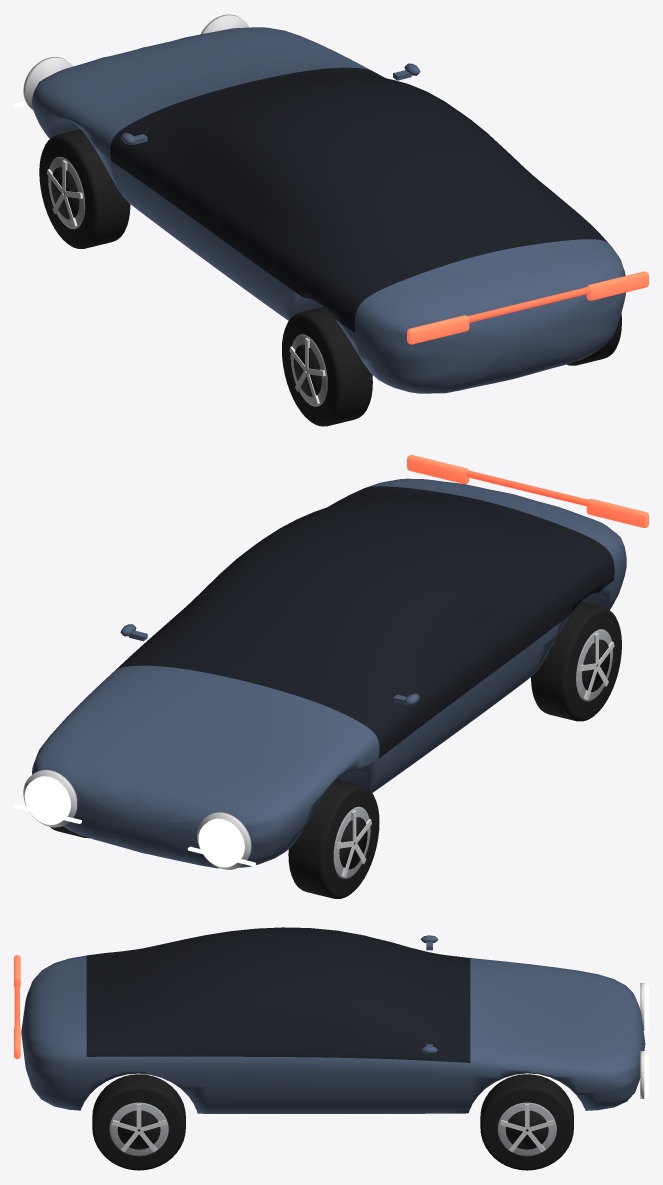
Rendered from auto.glb.
3 renders of one model, top to bottom at view 1: azimuth 30°, elevation 25°; view 2: azimuth 150°, elevation 25°; view 3: azimuth 270°, elevation 25°, orthographic. The views are drawn at different scales.
Parts seen in each view (by area): view 1: Karosserie, Reifen.002, Reifen, RlBlock_L, RlBlock_R, Lichtband, Chromring_L, Felge, Felge.002, Nabe, Nabe.002, Reifen.003; view 2: Karosserie, Reifen, Reifen.002, Linse_L, Linse_R, RlBlock_L, RlBlock_R, Lichtband, Felge, Felge.002, Nabe, Nabe.002 (+2 smaller); view 3: Karosserie, Reifen.001, Reifen.003, Felge.001, Felge.003, Nabe.003, Nabe.001.
Boxes of the visible parts, box(x1,y1,x2,y2) form: Karosserie: box(32, 27, 626, 393); Reifen.002: box(282, 307, 372, 426); Reifen: box(39, 129, 130, 248); RlBlock_L: box(407, 315, 469, 344); RlBlock_R: box(586, 271, 648, 300); Lichtband: box(468, 287, 590, 322); Chromring_L: box(23, 57, 73, 110); Felge: box(48, 156, 85, 229); Felge.002: box(290, 334, 327, 406); Nabe: box(51, 167, 79, 219); Nabe.002: box(293, 344, 321, 396); Reifen.003: box(567, 313, 621, 365); Karosserie: box(32, 478, 626, 868); Reifen: box(288, 779, 379, 898); Reifen.002: box(531, 602, 621, 721); Linse_L: box(198, 818, 244, 867); Linse_R: box(24, 776, 70, 824); RlBlock_L: box(586, 499, 648, 527); RlBlock_R: box(407, 455, 469, 484); Lichtband: box(465, 470, 587, 506); Felge: box(333, 806, 370, 879); Felge.002: box(576, 629, 612, 701); Nabe: box(339, 817, 367, 869); Nabe.002: box(582, 639, 609, 691); Karosserie: box(21, 927, 645, 1113); Reifen.001: box(480, 1074, 573, 1170); Reifen.003: box(92, 1074, 185, 1170); Felge.001: box(497, 1102, 556, 1156); Felge.003: box(109, 1102, 168, 1156); Nabe.003: box(117, 1110, 160, 1149); Nabe.001: box(506, 1110, 548, 1149).
Bounding box in the file's own units: 2.04 × 1.37 × 4.74.
